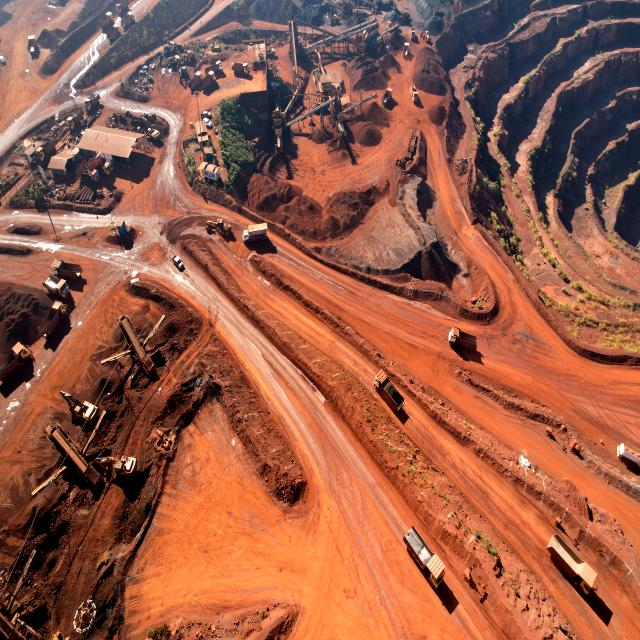Dumper truck: (549, 538, 600, 605), (406, 528, 446, 588), (0, 347, 28, 382), (380, 374, 403, 412), (379, 378, 403, 411), (448, 329, 476, 353), (44, 302, 64, 334), (53, 260, 82, 280), (53, 261, 82, 280), (36, 141, 58, 161), (46, 278, 68, 297), (51, 278, 70, 297), (86, 92, 102, 112), (82, 90, 99, 108), (84, 162, 100, 180), (84, 92, 100, 109), (104, 14, 120, 30), (102, 15, 119, 30), (202, 72, 217, 89), (104, 10, 121, 24), (106, 24, 121, 39), (88, 166, 101, 183), (96, 162, 110, 177), (80, 168, 94, 183), (104, 21, 120, 34), (204, 61, 220, 74), (189, 75, 203, 89), (203, 73, 216, 88), (87, 157, 102, 170), (62, 116, 77, 129), (190, 70, 203, 85), (117, 2, 132, 15), (234, 64, 250, 76), (104, 22, 120, 34), (122, 12, 134, 28), (90, 165, 102, 181), (374, 372, 386, 388), (87, 167, 99, 183), (64, 116, 76, 132), (88, 160, 104, 172), (121, 8, 134, 22), (382, 90, 394, 104), (114, 1, 128, 13), (100, 162, 111, 177), (385, 16, 396, 30), (115, 1, 126, 14), (28, 36, 38, 50), (205, 68, 219, 78), (403, 44, 413, 58), (27, 34, 37, 48), (400, 42, 410, 56), (388, 22, 400, 33), (402, 44, 412, 57), (101, 161, 111, 174), (29, 42, 38, 56), (386, 22, 396, 33), (266, 48, 276, 59), (213, 61, 222, 73), (412, 89, 419, 104), (411, 88, 418, 103), (410, 29, 418, 41)
Excavator: (63, 391, 97, 422), (95, 454, 135, 479), (160, 39, 174, 65), (146, 127, 158, 140), (180, 67, 190, 81)
